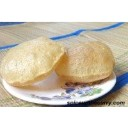poori: (3, 38, 64, 88), (56, 39, 115, 83)
